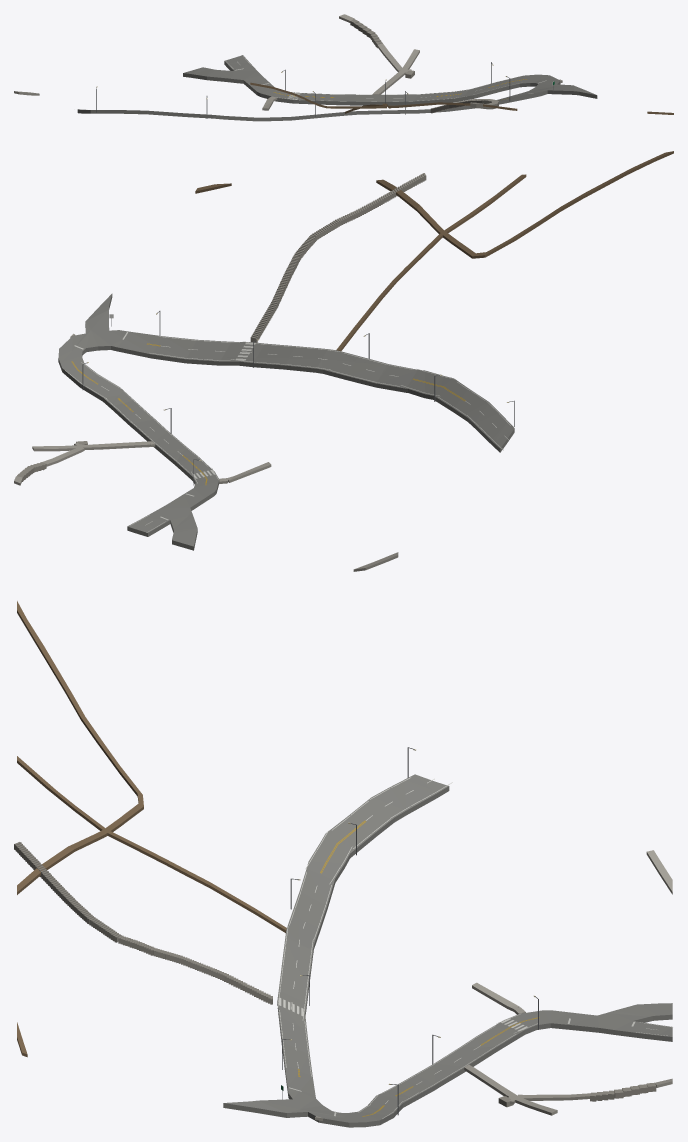
The picture shows the model from 3 angles, top to bottom: view 1: azimuth 30°, elevation 25°; view 2: azimuth 150°, elevation 25°; view 3: azimuth 270°, elevation 25°; orthographic projection. The views are drawn at different scales.
Bounding box in the file's own units: 148 × 71.34 × 147.
